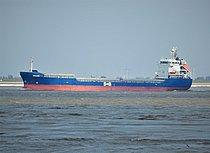Ship: (18, 51, 197, 97)
